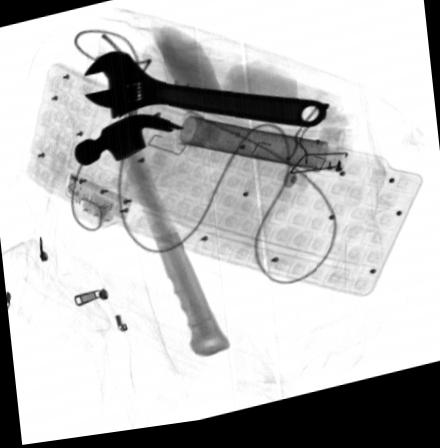Hammer: (74, 116, 229, 361)
Wrench: (83, 52, 327, 136)
